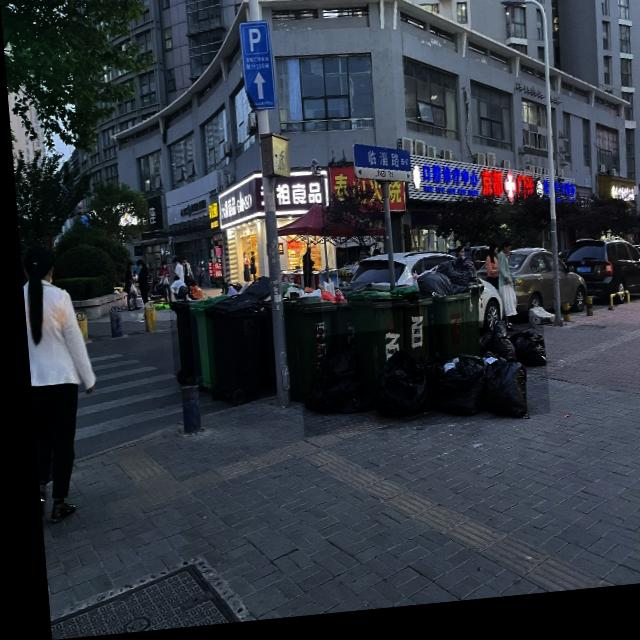garbage: (290, 325, 543, 443)
garbage_bin: (340, 293, 404, 410), (275, 300, 333, 407), (183, 298, 229, 391), (163, 302, 195, 381)
overflow: (198, 297, 265, 406), (410, 265, 481, 367), (384, 290, 430, 372), (314, 283, 349, 357)
